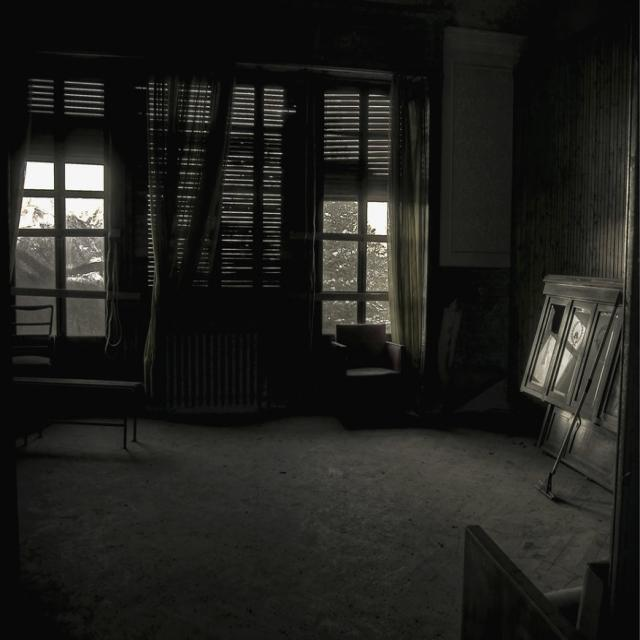Table: (0, 348, 157, 447)
chair: (440, 482, 640, 640), (317, 316, 424, 427), (0, 257, 63, 370)
